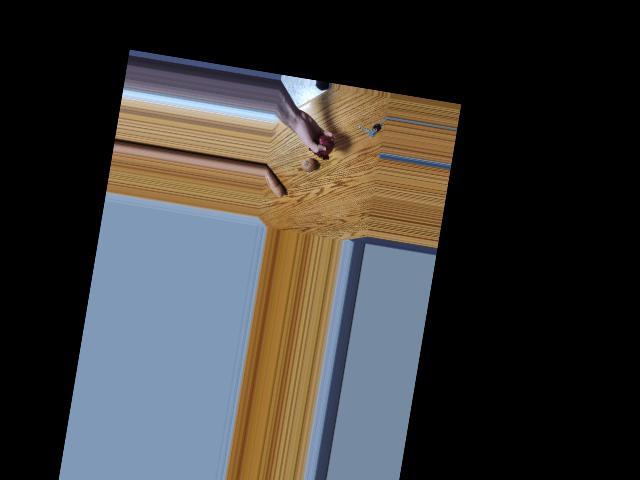onion: (314, 135, 335, 156)
